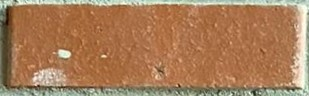redbrick: (1, 1, 309, 96)
